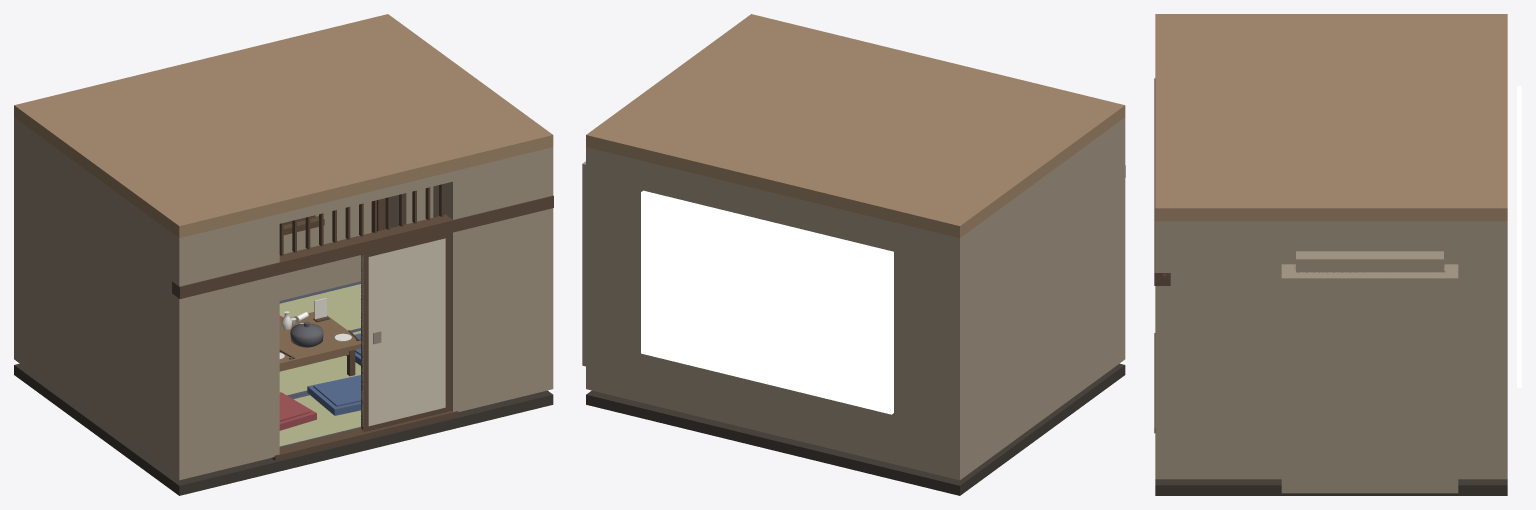
Rendered from izakaya_room.glb.
3 views of the same model, side by side, from view 1: azimuth 30°, elevation 25°; view 2: azimuth 150°, elevation 25°; view 3: azimuth 270°, elevation 25° (orthographic). The views are drawn at different scales.
Parts seen in each view (by area): view 1: Ceiling, WallW, WallS_Side_L, WallS_Side_R, Fusuma_L_Panel, Floor_Base, Kamoi, WallN_Below, WallS_Ranma_R, WallS_Ranma_L, WallS_Top, WallE_Front (+10 smaller); view 2: Ceiling, Window_Backdrop, WallW, WallN_Below, WallN_Above, Floor_Base, WallN_Side_L, WallN_Side_R, WallE_Back, Alcove_Back; view 3: Ceiling, Alcove_Back, WallE_Front, WallE_Back, WallE_AboveAlcove, Floor_Base, Alcove_Ceil, WallS_Side_R, WallN_Side_R, Window_Backdrop, WallN_Below, WallN_Above (+2 smaller).
Part boxes in pixels (x1,y1,x2,y2): Ceiling: [14, 14, 553, 238]; WallW: [14, 122, 190, 479]; WallS_Side_L: [172, 275, 279, 480]; WallS_Side_R: [450, 208, 553, 412]; Fusuma_L_Panel: [362, 238, 445, 431]; Floor_Base: [14, 363, 553, 495]; Kamoi: [172, 195, 553, 298]; WallN_Below: [14, 203, 371, 363]; WallS_Ranma_R: [446, 157, 553, 219]; WallS_Ranma_L: [172, 224, 279, 286]; WallS_Top: [172, 147, 553, 247]; WallE_Front: [541, 147, 553, 391]; Ceiling: [586, 14, 1125, 238]; Window_Backdrop: [641, 190, 893, 414]; WallW: [948, 122, 1125, 480]; WallN_Below: [586, 313, 966, 479]; WallN_Above: [586, 148, 966, 283]; Floor_Base: [586, 363, 1125, 495]; WallN_Side_L: [894, 267, 966, 404]; WallN_Side_R: [586, 192, 640, 326]; WallE_Back: [586, 147, 597, 391]; Alcove_Back: [582, 161, 585, 366]; Ceiling: [1155, 14, 1507, 221]; Alcove_Back: [1281, 272, 1458, 493]; WallE_Front: [1155, 221, 1295, 479]; WallE_Back: [1444, 221, 1507, 479]; WallE_AboveAlcove: [1296, 221, 1443, 251]; Floor_Base: [1155, 479, 1507, 495]; Alcove_Ceil: [1296, 251, 1443, 272]; WallS_Side_R: [1155, 286, 1169, 479]; WallN_Side_R: [1493, 269, 1507, 398]; Window_Backdrop: [1517, 86, 1521, 387]; WallN_Below: [1493, 398, 1507, 479]; WallN_Above: [1493, 221, 1507, 269].
Size of the model in its own units: 4.16 by 2.68 by 3.1.
